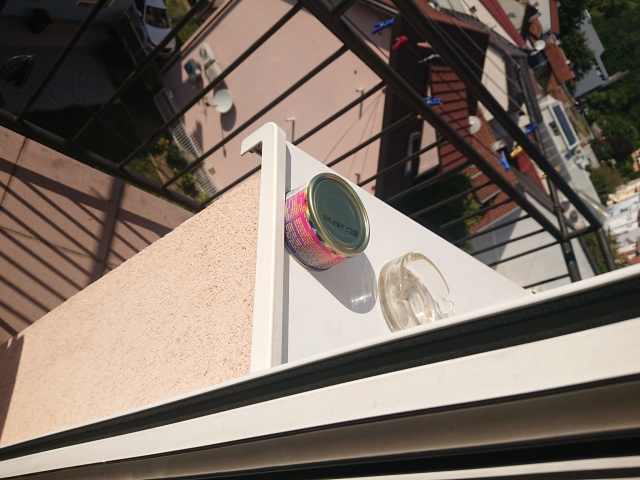Giana Tuna Salad Mexico 185g: (276, 170, 374, 275)
